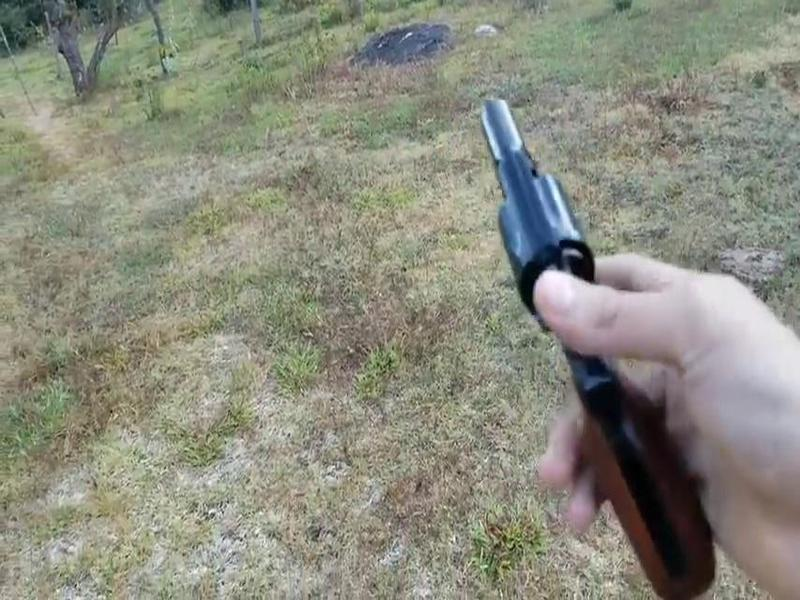Revolver: (471, 75, 716, 600)
